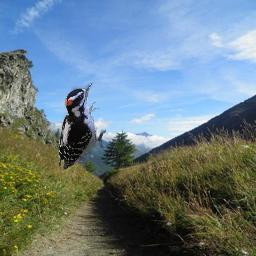Woodpecker: (59, 82, 106, 170)
